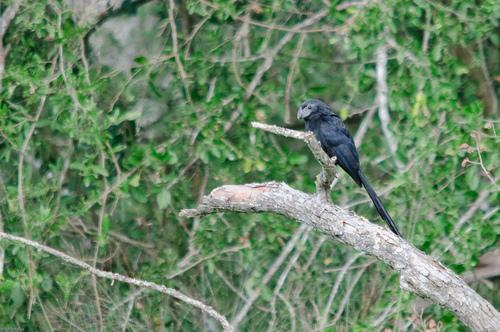004.Groove_billed_Ani: (295, 100, 399, 233)
